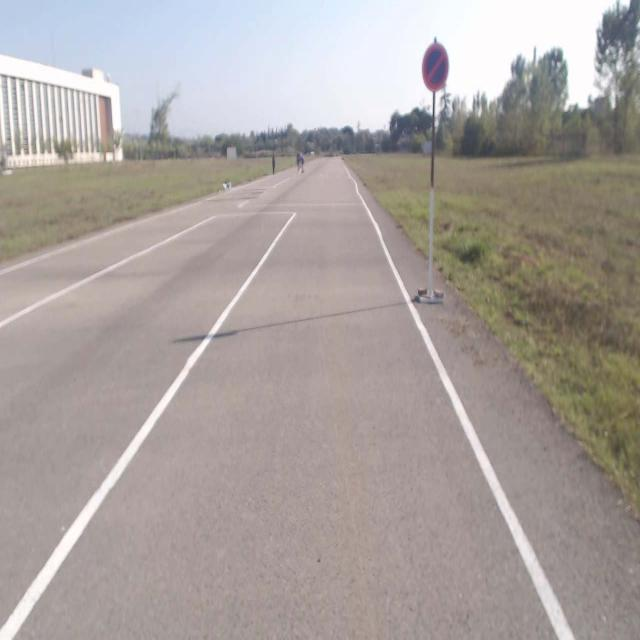parkyasak: (421, 44, 448, 92)
